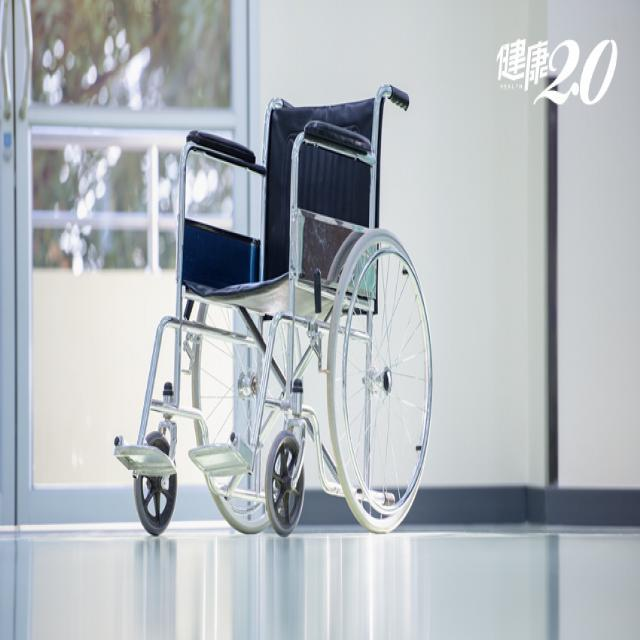wheelchair: (103, 53, 438, 566)
